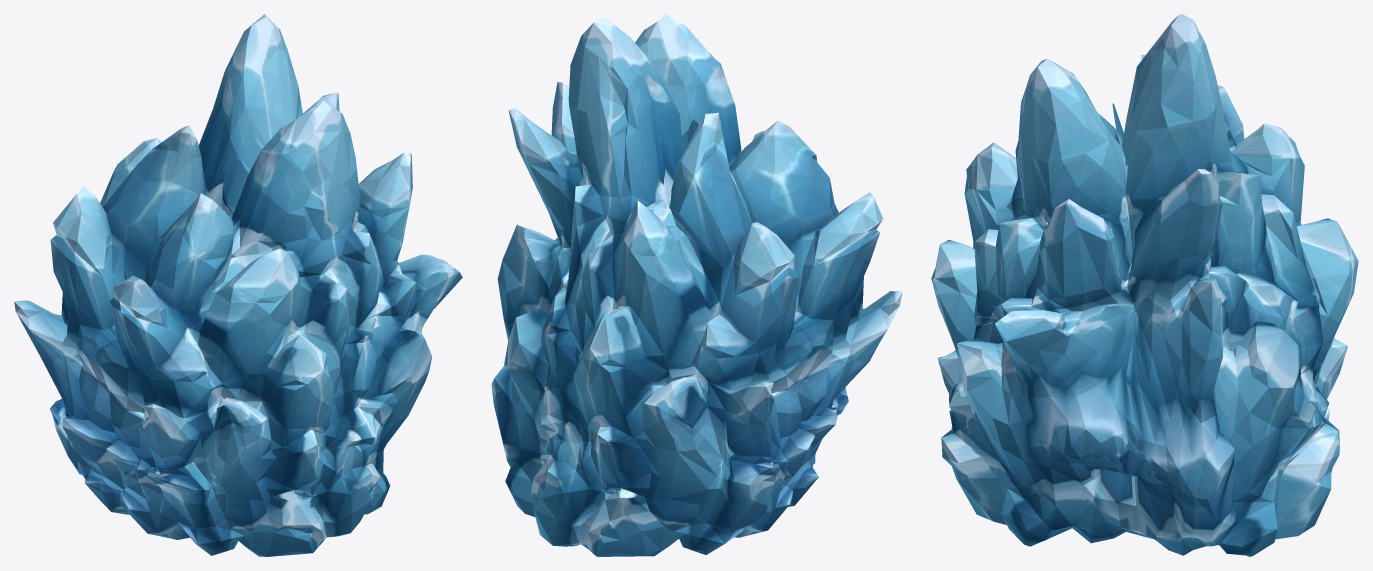
The model's file is cluster_draco.glb.
3 views of the same model, side by side, from view 1: azimuth 30°, elevation 25°; view 2: azimuth 150°, elevation 25°; view 3: azimuth 270°, elevation 25° (orthographic). The views are drawn at different scales.
Parts seen in each view (by area): view 1: Object_2; view 2: Object_2; view 3: Object_2.
Boxes of the visible parts, <box> form: Object_2: <box>14,14,462,556</box>; Object_2: <box>491,14,902,556</box>; Object_2: <box>931,14,1358,556</box>.
Bounding box in the file's own units: 0.6936 × 0.9524 × 0.7043.
1 material, 1 textured.
